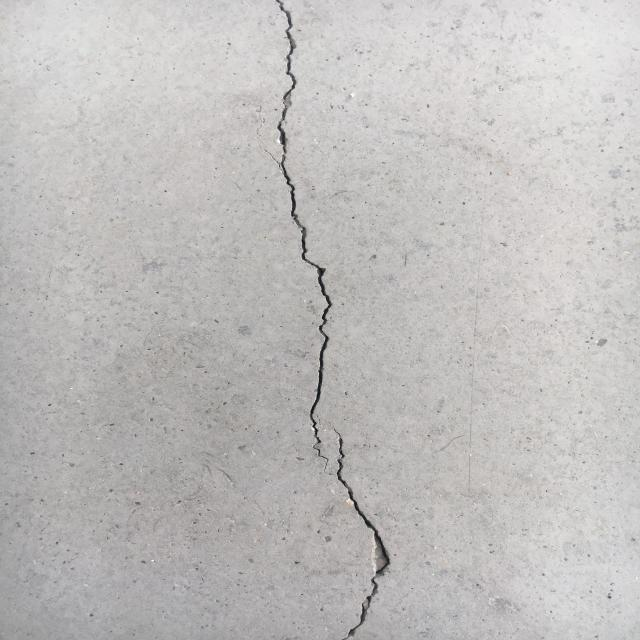Rachadura: (276, 0, 390, 640)
